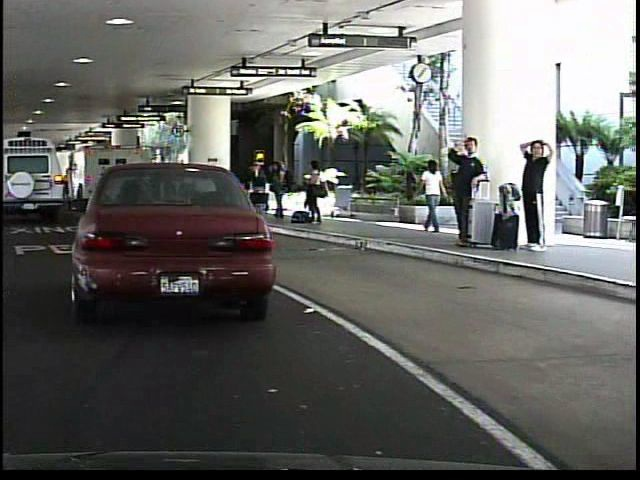person: (442, 134, 487, 248), (518, 128, 556, 251), (416, 154, 447, 235), (301, 157, 327, 225)
